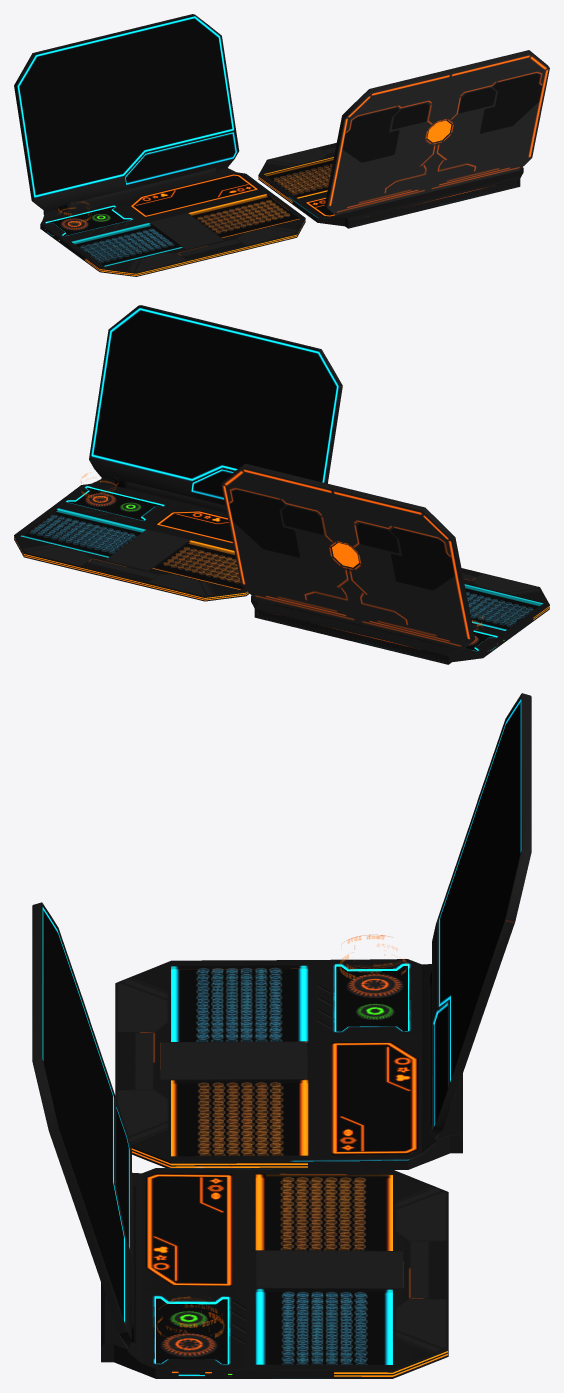
3 views of the same model, one above another, from view 1: azimuth 30°, elevation 25°; view 2: azimuth 150°, elevation 25°; view 3: azimuth 270°, elevation 25° (orthographic). The views are drawn at different scales.
Visible parts, largest first — view 1: R3D_Laptop2_pPlane4 (×2), polySurface13 (×2); view 2: R3D_Laptop2_pPlane4 (×2), polySurface13 (×2); view 3: polySurface13 (×2), R3D_Laptop2_pPlane4 (×2).
Part boxes in pixels (x1,y1,x2,y2): R3D_Laptop2_pPlane4 (×2): [14, 14, 549, 215]; polySurface13 (×2): [40, 143, 523, 276]; R3D_Laptop2_pPlane4 (×2): [89, 305, 474, 649]; polySurface13 (×2): [14, 477, 549, 664]; polySurface13 (×2): [101, 959, 462, 1378]; R3D_Laptop2_pPlane4 (×2): [32, 693, 531, 1348].
Bounding box in the file's own units: 0.8677 × 0.2946 × 0.4464.
1 material, 1 textured.
